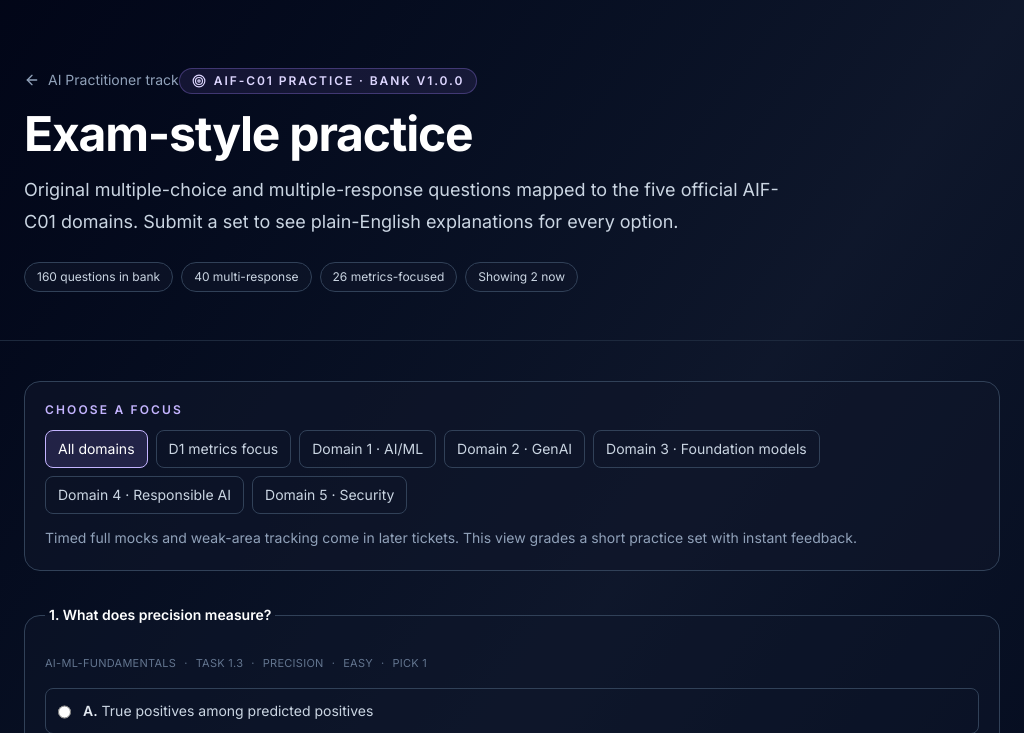
Test: AifExamPractice › requires a full set of answers before submit and shows explanations after grading
This screenshot has width=1024, height=733.
Expected: the heading "Exam-style practice" is shown, 24,104 -> 472,163
Click the radio button labelled "A. True positives among predicted positives" at (64, 712), box 58,702 -> 71,720
(page scrolled)
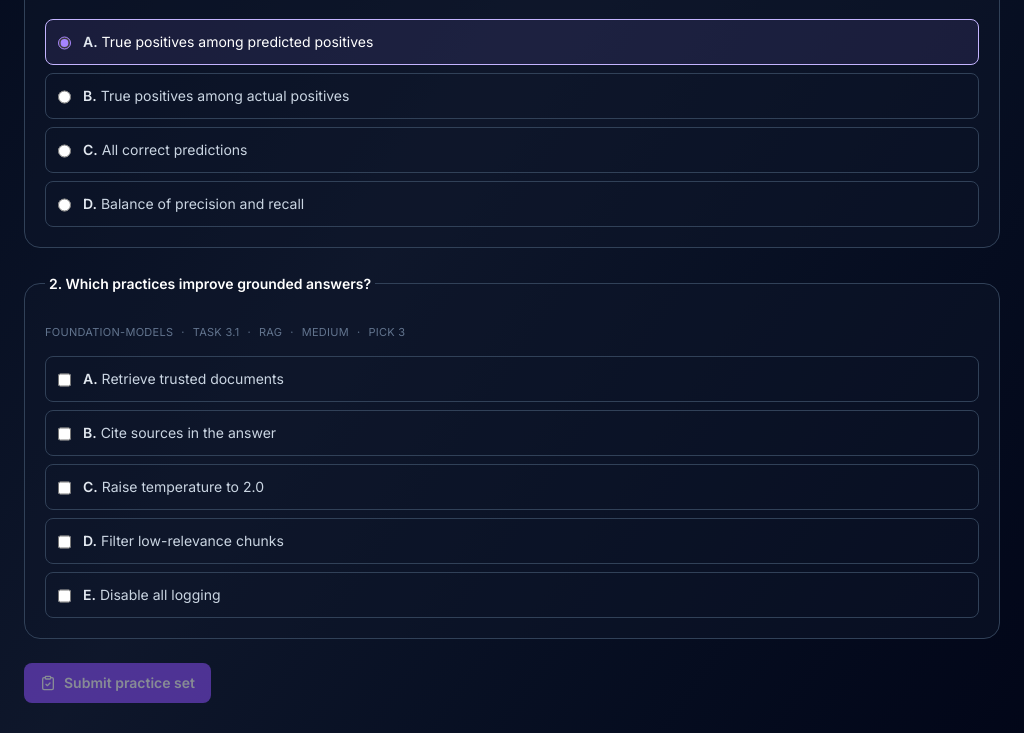
Click the checkbox labelled "A. Retrieve trusted documents" at (64, 380), box 58,371 -> 71,389
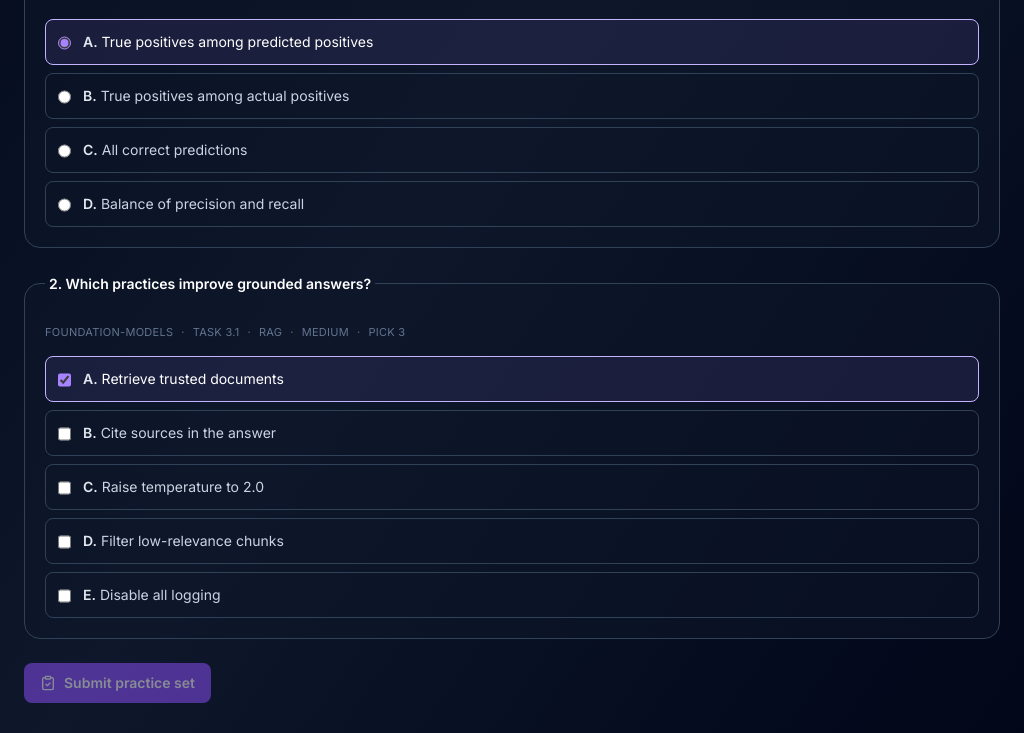
Click the checkbox labelled "B. Cite sources in the answer" at (64, 434), box 58,425 -> 71,443
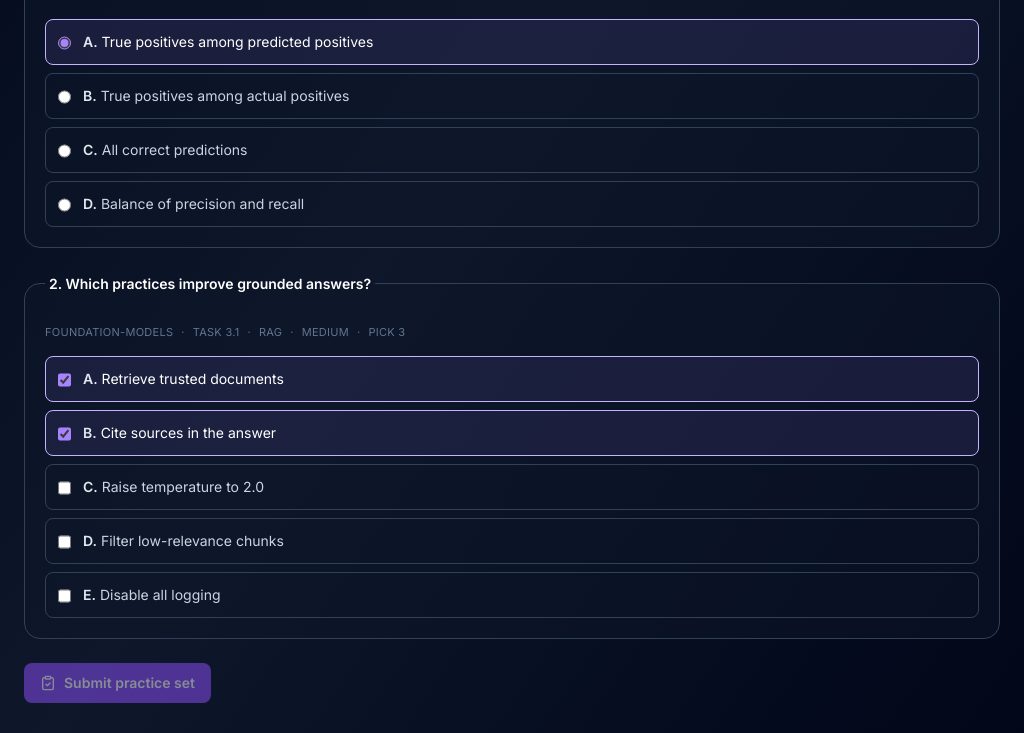
Click the checkbox labelled "C. Raise temperature to 2.0" at (64, 488), box 58,479 -> 71,497
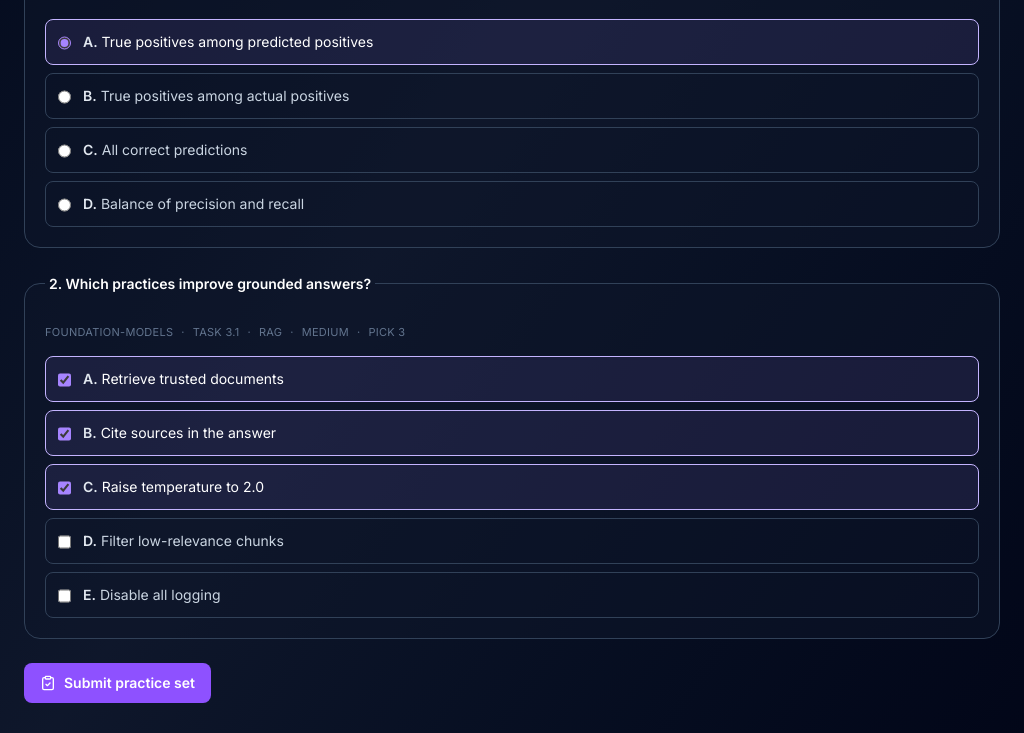
Result: the button "Submit practice set" is enabled
Click the button "Submit practice set" at (118, 683), box 24,663 -> 211,703
(page scrolled)
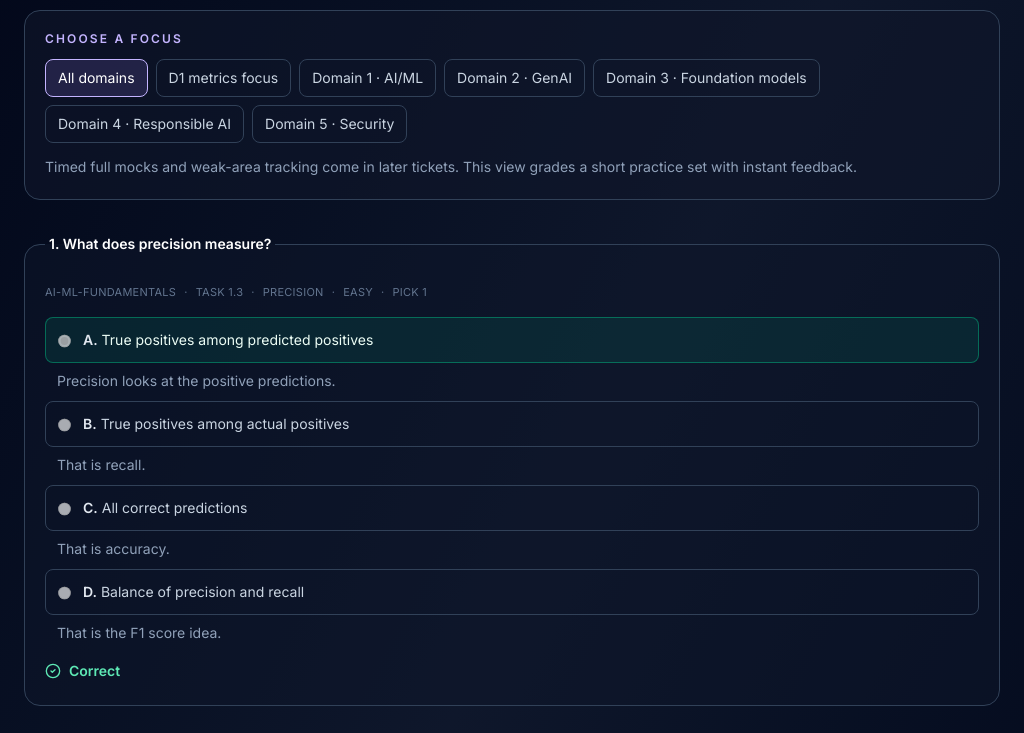
Result: the text "Precision looks at the positive predictions." is shown at 57,372 -> 336,388
